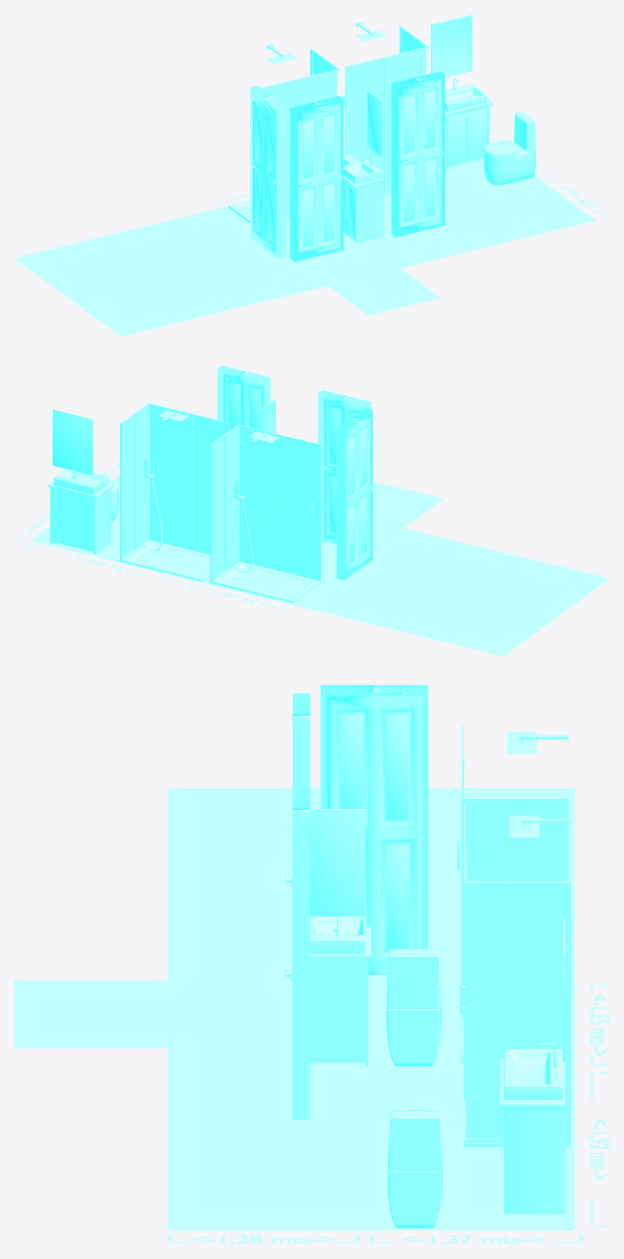
File: diseños.glb
3 views of the same model, one above another, from view 1: azimuth 30°, elevation 25°; view 2: azimuth 150°, elevation 25°; view 3: azimuth 270°, elevation 25° (orthographic). The views are drawn at different scales.
Parts seen in each view (by area): view 1: Suelo, Puerta.2, Puerta.1, ducha.2, Puerta.corredera, Lavabo.2, lavabo.1, ducha.1, wc.2; view 2: Suelo, ducha.1, ducha.2, Lavabo.2, Puerta.corredera, Puerta.1, Puerta.2, lavabo.1; view 3: Suelo, ducha.2, Puerta.corredera, lavabo.1, Lavabo.2, ducha.1, Puerta.2, wc.1, wc.2, Puerta.1, 1,92.
Part boxes in pixels (x1,y1,x2,y2): Suelo: (14,143,595,336); Puerta.2: (391,71,444,237); Puerta.1: (290,96,343,261); ducha.2: (342,21,428,196); Puerta.corredera: (250,85,286,258); Lavabo.2: (431,14,493,170); lavabo.1: (343,91,384,243); ducha.1: (228,44,339,222); wc.2: (483,111,535,185); Suelo: (30,466,609,656); ducha.1: (210,424,321,603); ducha.2: (119,403,230,581); Lavabo.2: (48,409,114,554); Puerta.corredera: (336,407,374,580); Puerta.1: (318,390,371,545); Puerta.2: (217,365,270,429); lavabo.1: (260,399,275,433); Suelo: (14,788,574,1230); ducha.2: (460,805,570,1147); Puerta.corredera: (320,685,428,974); lavabo.1: (310,809,371,1066); Lavabo.2: (499,917,565,1213); ducha.1: (457,721,568,1063); Puerta.2: (285,787,310,1119); wc.1: (386,948,441,1066); wc.2: (387,1110,442,1228); Puerta.1: (285,693,310,965); 1,92: (587,1072,609,1227).
Size of the model in its own units: 7.03 by 2.09 by 3.88.
